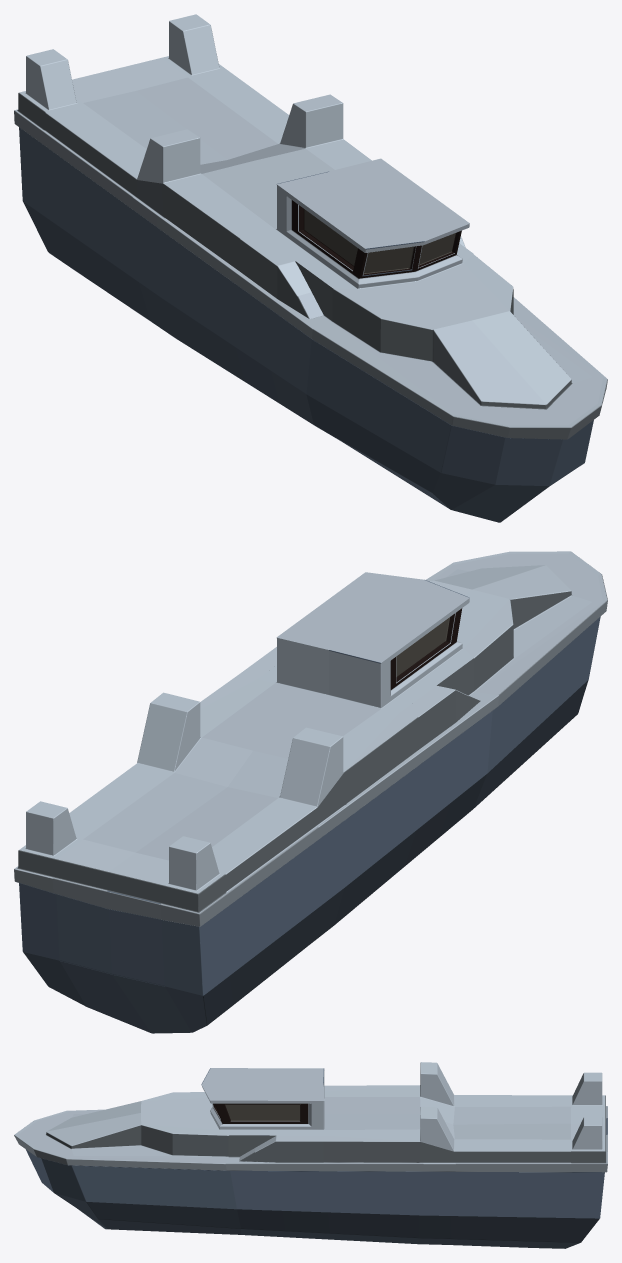
Rendered from boat_medium_01.fbx.
The picture shows the model from 3 angles, top to bottom: view 1: azimuth 30°, elevation 25°; view 2: azimuth 150°, elevation 25°; view 3: azimuth 270°, elevation 25°; orthographic projection. The views are drawn at different scales.
Visible parts, largest first — view 1: Cube; view 2: Cube; view 3: Cube.
Boxes of the visible parts, x1,y1,x2,y2 form: Cube: (14, 14, 607, 522); Cube: (14, 551, 607, 1033); Cube: (14, 1062, 607, 1248).
Bounding box in the file's own units: 286 × 372 × 1235.
